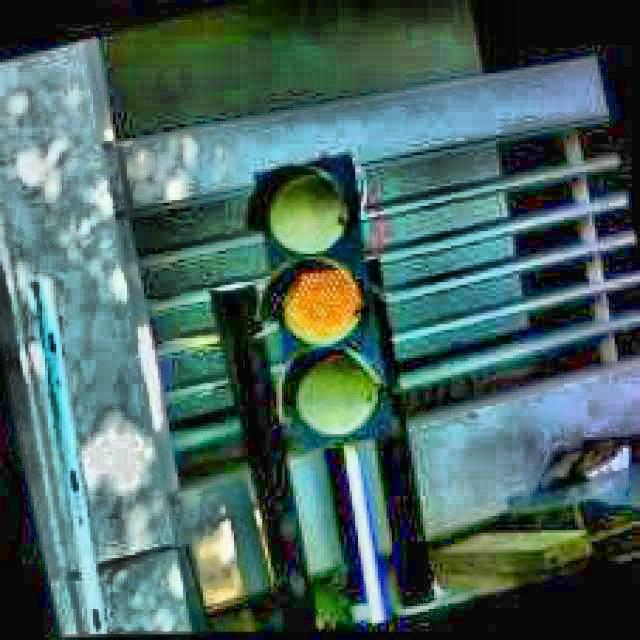yellow: (242, 153, 394, 444)
